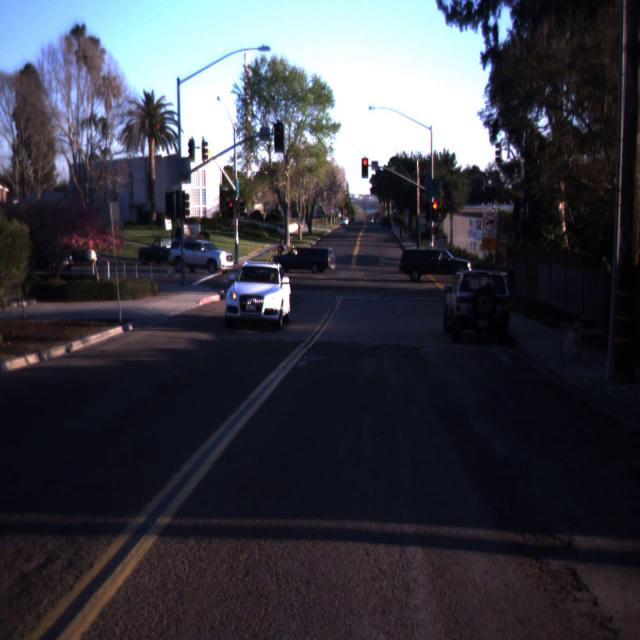stop: (364, 160, 366, 165), (230, 203, 232, 206), (434, 205, 436, 207)
stop traffic light: (360, 157, 370, 178), (432, 203, 438, 216), (228, 202, 234, 214)
